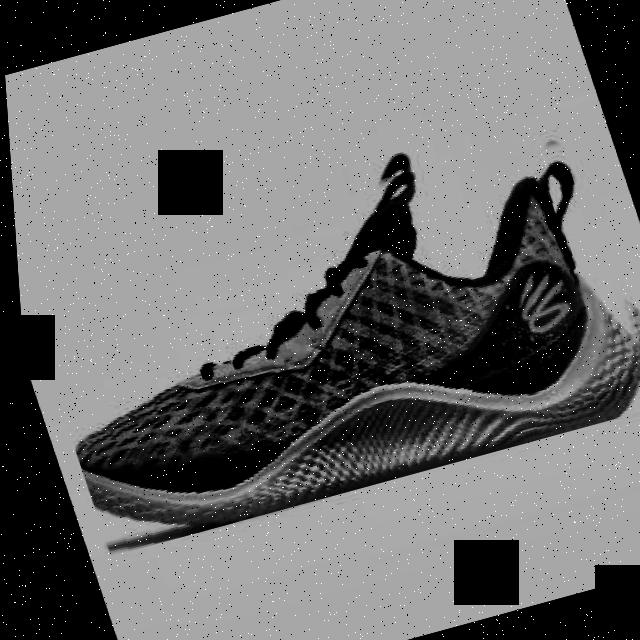shoe: (6, 110, 640, 556)
